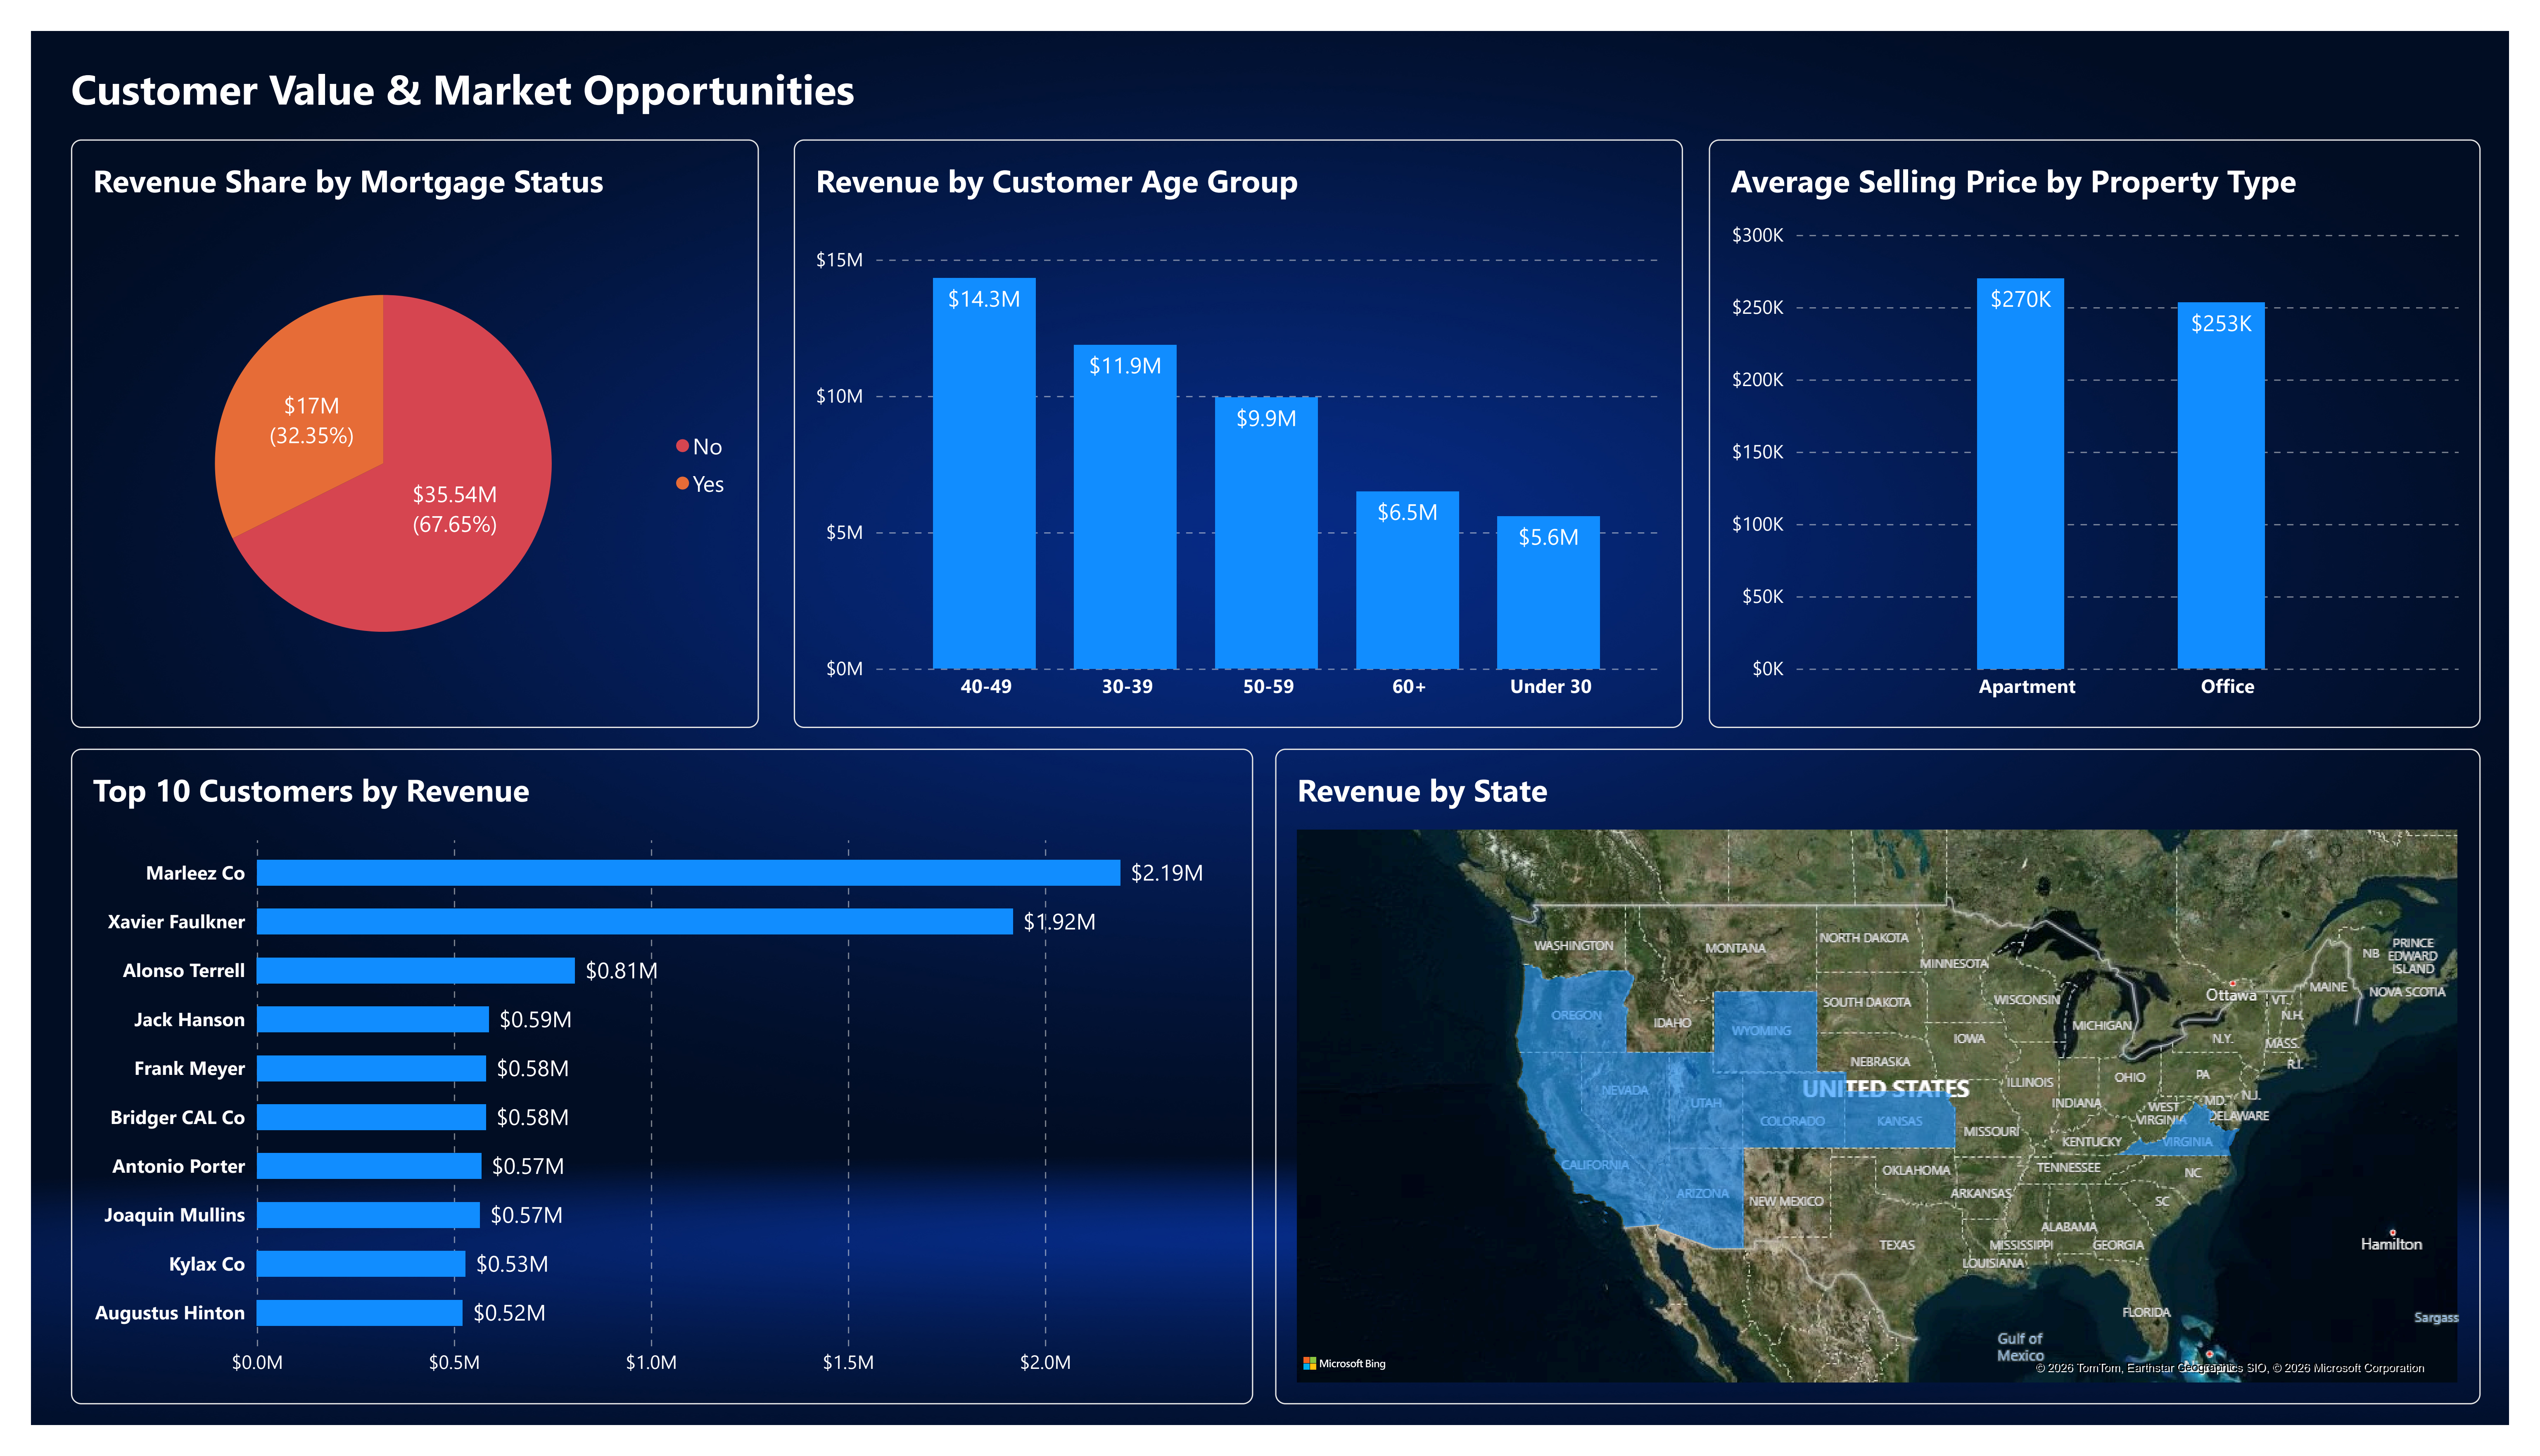

The page's visual inventory and layout, read from the dashboard file:
{"tool":"powerbi","page":{"name":"Customer Value & Market Opportunities","canvas":[1920,1080],"ordinal":1},"visuals":[{"type":"clusteredColumnChart","title":"Revenue by Customer Age Group","fields":{"Category":["real_estate_data vw_age_group_performance.age_group"],"Y":["Sum(real_estate_data vw_age_group_performance.total_revenue)"]},"box":[591.1,84.4,688.9,455.6],"z":0},{"type":"pieChart","title":"Revenue Share by Mortgage Status","fields":{"Category":["real_estate_data vw_customer_segments.mortgage_status"],"Y":["Sum(real_estate_data vw_customer_segments.total_revenue)"]},"box":[31.1,84.4,533.3,455.6],"z":1000},{"type":"filledMap","title":"Revenue by State","fields":{"Category":["real_estate_data vw_geographic_performance.state"]},"box":[964.4,555.6,933.3,508.9],"z":2000},{"type":"clusteredBarChart","title":"Top 10 Customers by Revenue","fields":{"Category":["real_estate_data vw_top_customers.customer_name"],"Y":["Sum(real_estate_data vw_top_customers.total_customer_revenue)"]},"box":[31.1,555.6,915.6,508.9],"z":3000},{"type":"clusteredColumnChart","title":"Average Selling Price by Property Type","fields":{"Category":["real_estate_data vw_property_type_performance.property_type"],"Y":["Sum(real_estate_data vw_property_type_performance.average_selling_price)"]},"box":[1300,84.4,597.8,455.6],"z":4000},{"type":"textbox","box":[31.1,22.2,1866.7,44.4],"z":5000}]}

Visuals, with their boxes on the page's 1920x1080 design canvas (x1, y1, x2, y2). These are canvas units, not pixel positions in the 2540x1456 screenshot, which may show the page scaled, cropped or inside an application window:
"Revenue by Customer Age Group" clusteredColumnChart: 591,84,1280,540
"Revenue Share by Mortgage Status" pieChart: 31,84,564,540
"Revenue by State" filledMap: 964,556,1898,1064
"Top 10 Customers by Revenue" clusteredBarChart: 31,556,947,1064
"Average Selling Price by Property Type" clusteredColumnChart: 1300,84,1898,540
textbox: 31,22,1898,67
